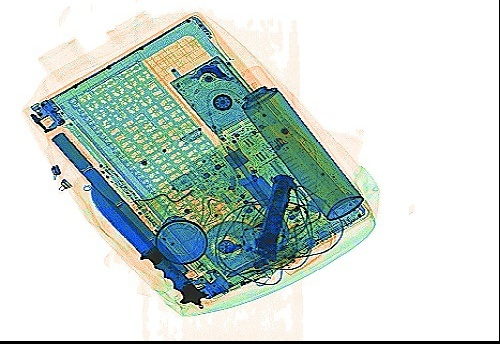knife: (85, 182, 210, 309), (248, 170, 299, 260)
pressure: (224, 63, 365, 218)
